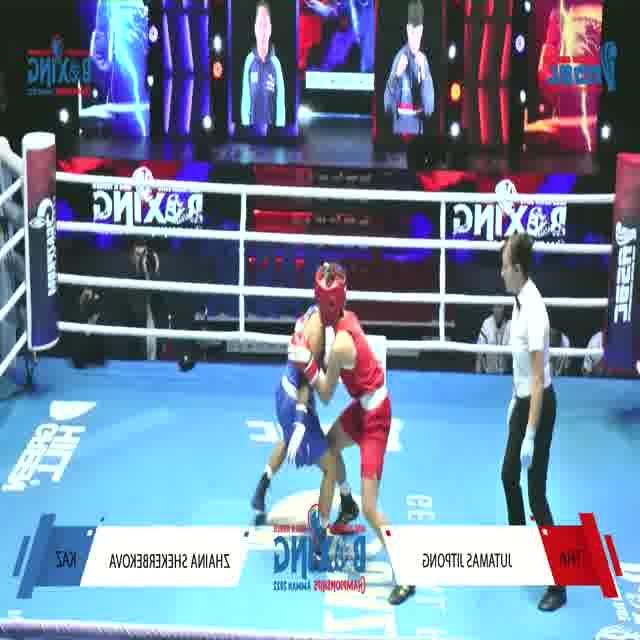blue-player: (246, 252, 343, 553)
red-player: (285, 261, 418, 609)
referee: (496, 223, 568, 613)
